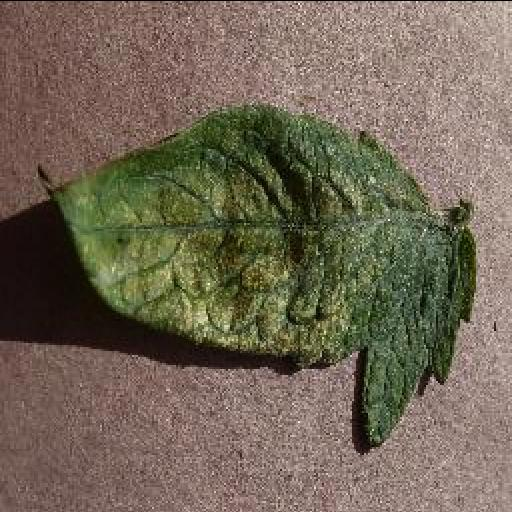disease_tomato: (38, 102, 476, 444)
